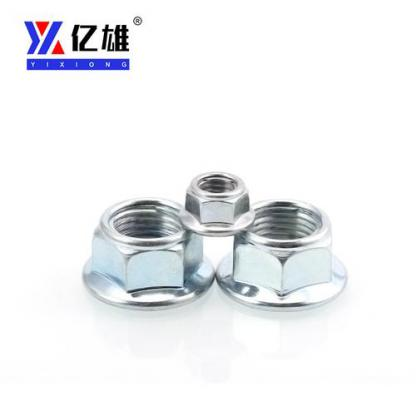FOD: (79, 192, 216, 315), (216, 197, 351, 317), (175, 168, 255, 236)
